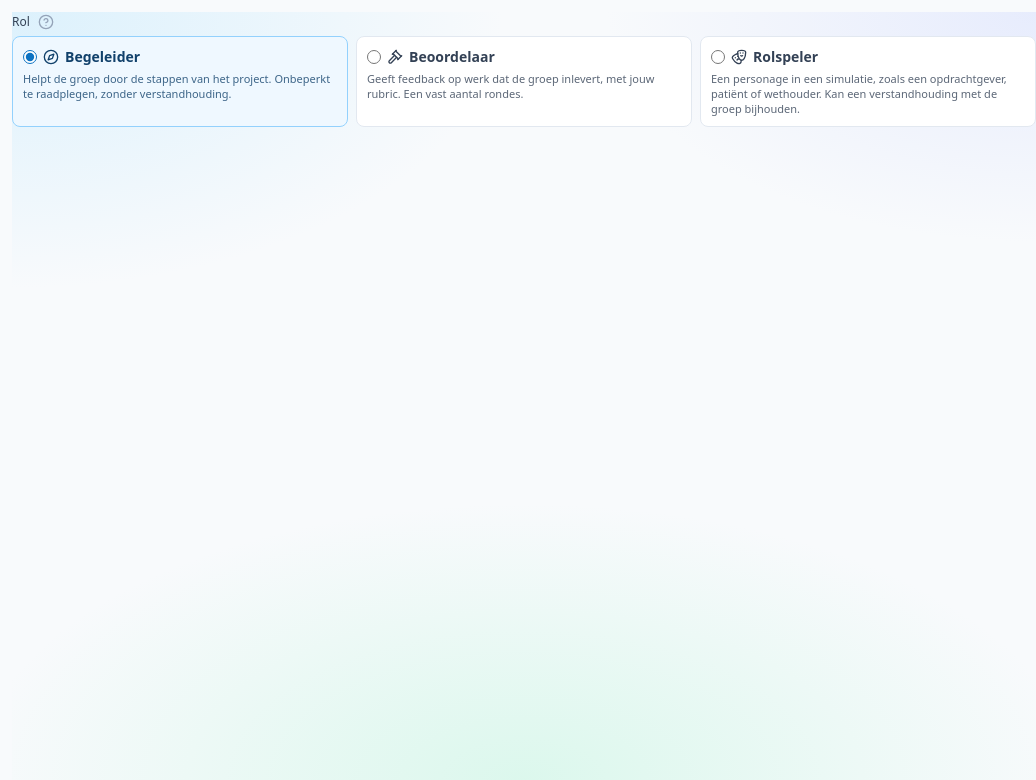
Test: PersonaRoleFields › beoordelaar: product en aantal rondes
Click the 2nd radio button: (374, 57) left=367, top=50, right=381, bottom=64
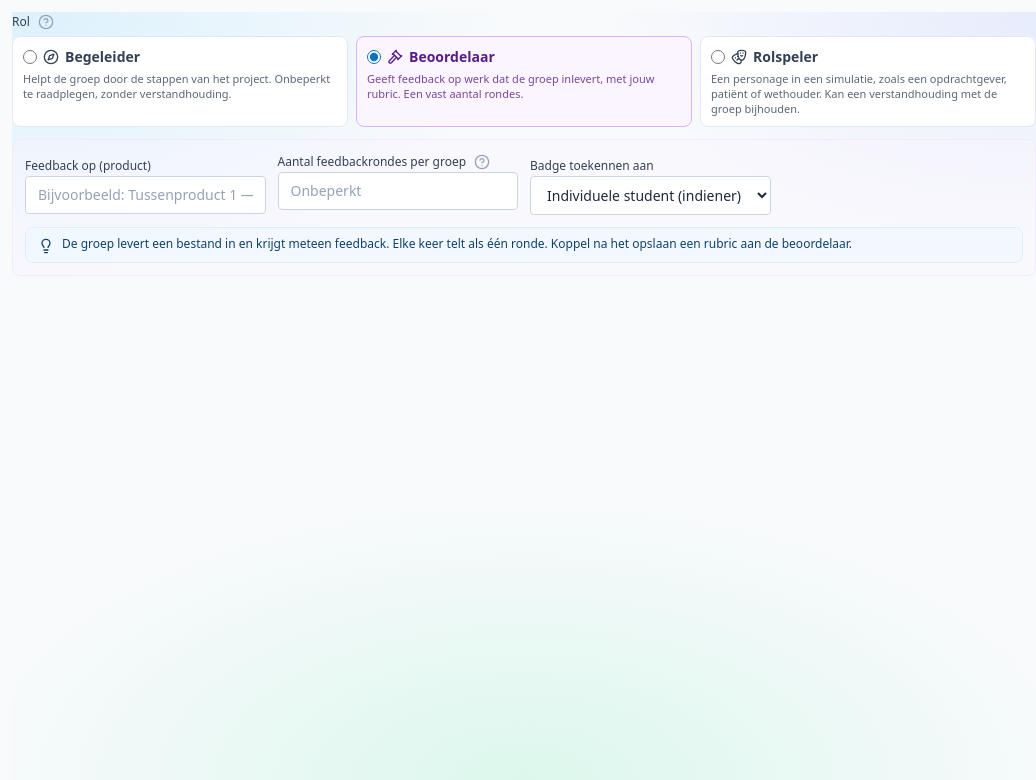
Check: the field with test id "t-deliverable" is shown, box left=25, top=176, right=266, bottom=214
Check: the number field with test id "t-max-reviews" is shown, box left=278, top=172, right=518, bottom=210
